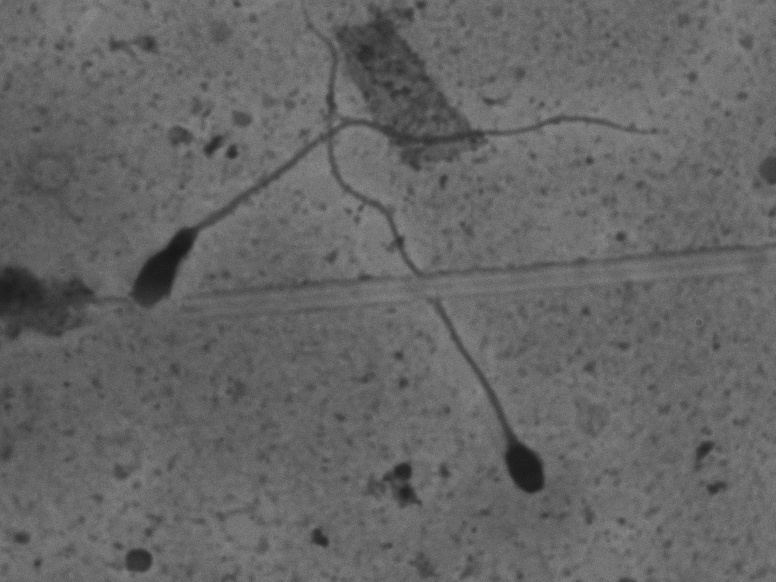Abnormal: (123, 109, 681, 318)
Normal: (281, 8, 558, 505)
